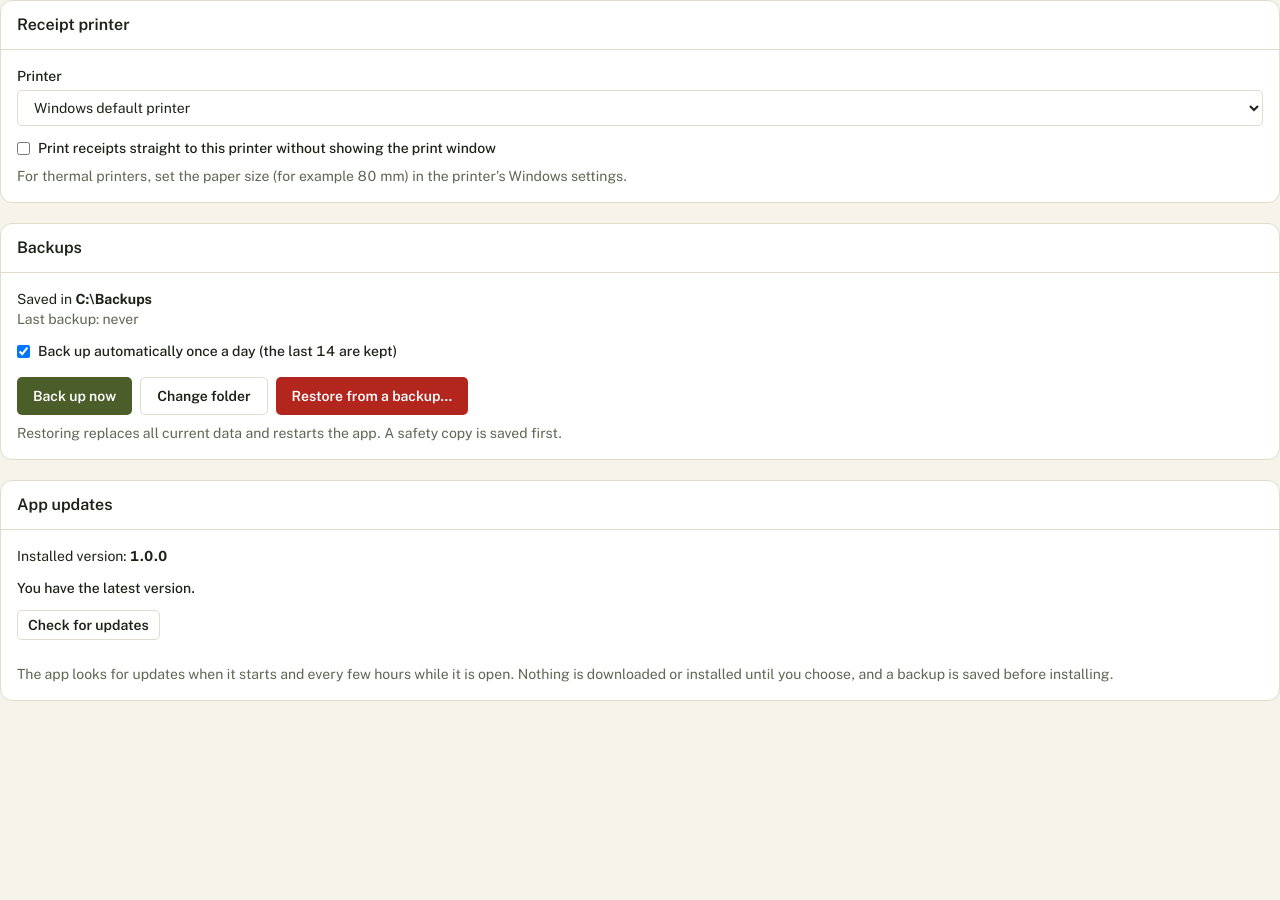
Test case: app updates in the desktop settings › says so, in words, when the check fails because there is no internet
Click the button "Check for updates" at (88, 625), box [17, 610, 160, 640]
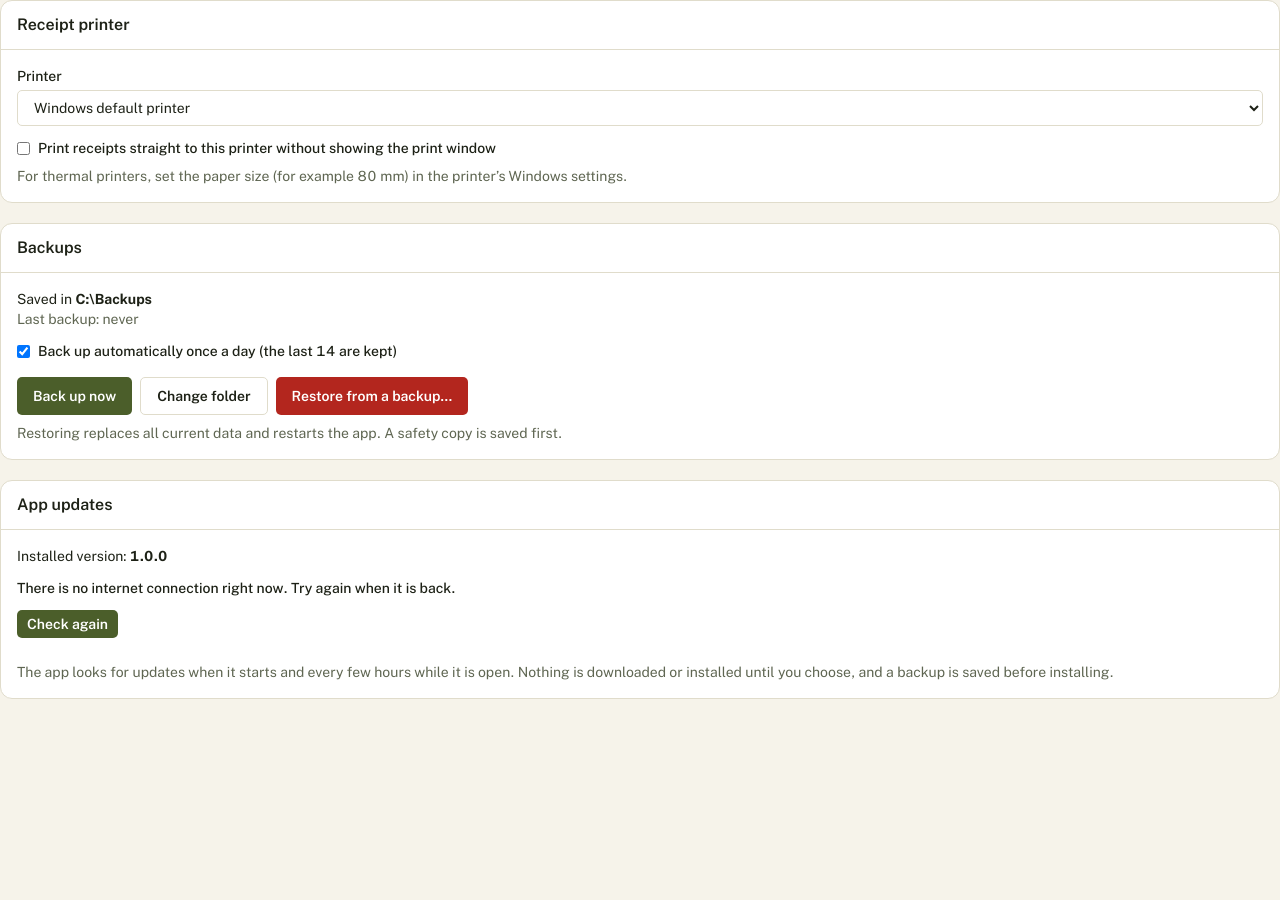
Expected: the text "no internet connection" is shown, [17, 580, 455, 596]
Expected: the button "Check again" is shown, [17, 610, 118, 638]
